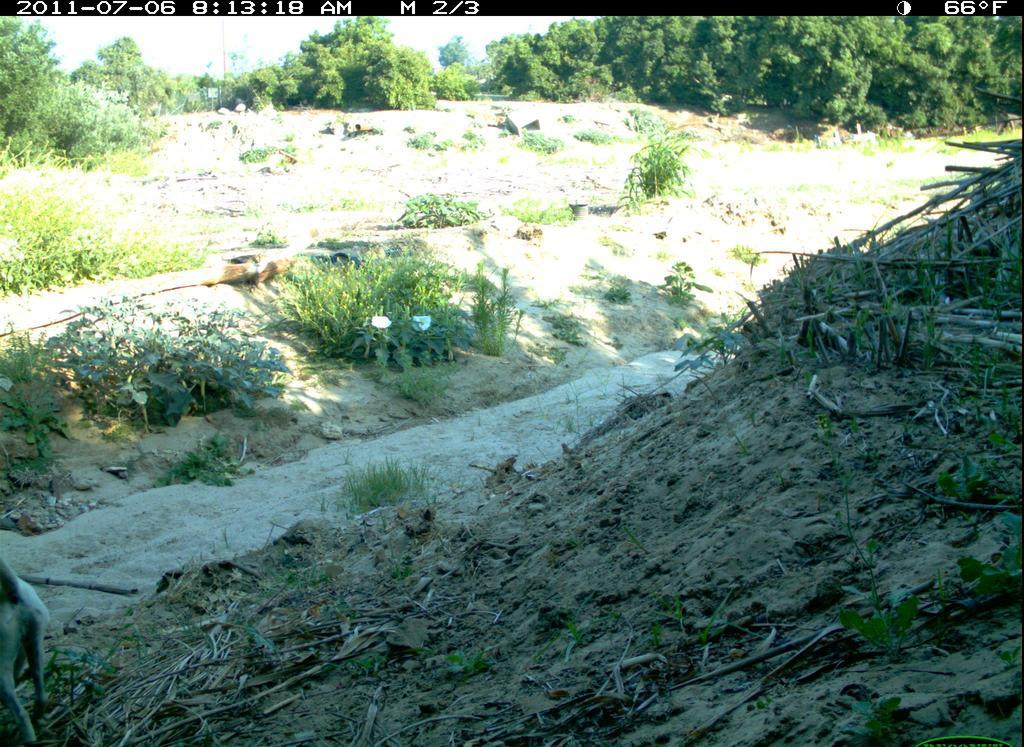dog: (1, 555, 67, 740)
